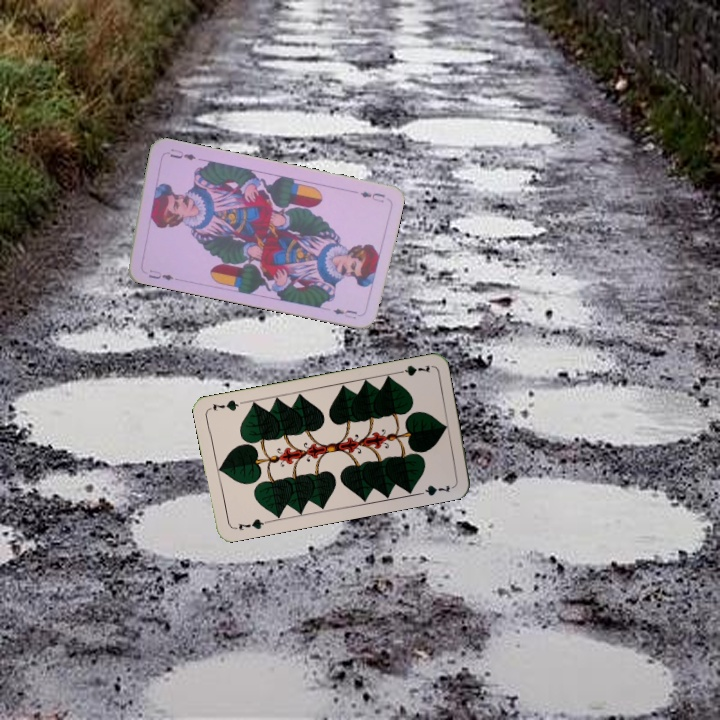EU: (356, 187, 388, 205), (145, 266, 176, 283)
G7: (392, 361, 433, 379), (234, 515, 270, 533)
